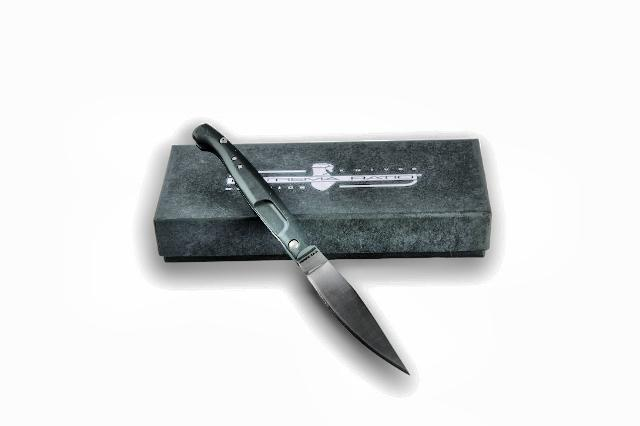knife: (280, 226, 418, 382)
